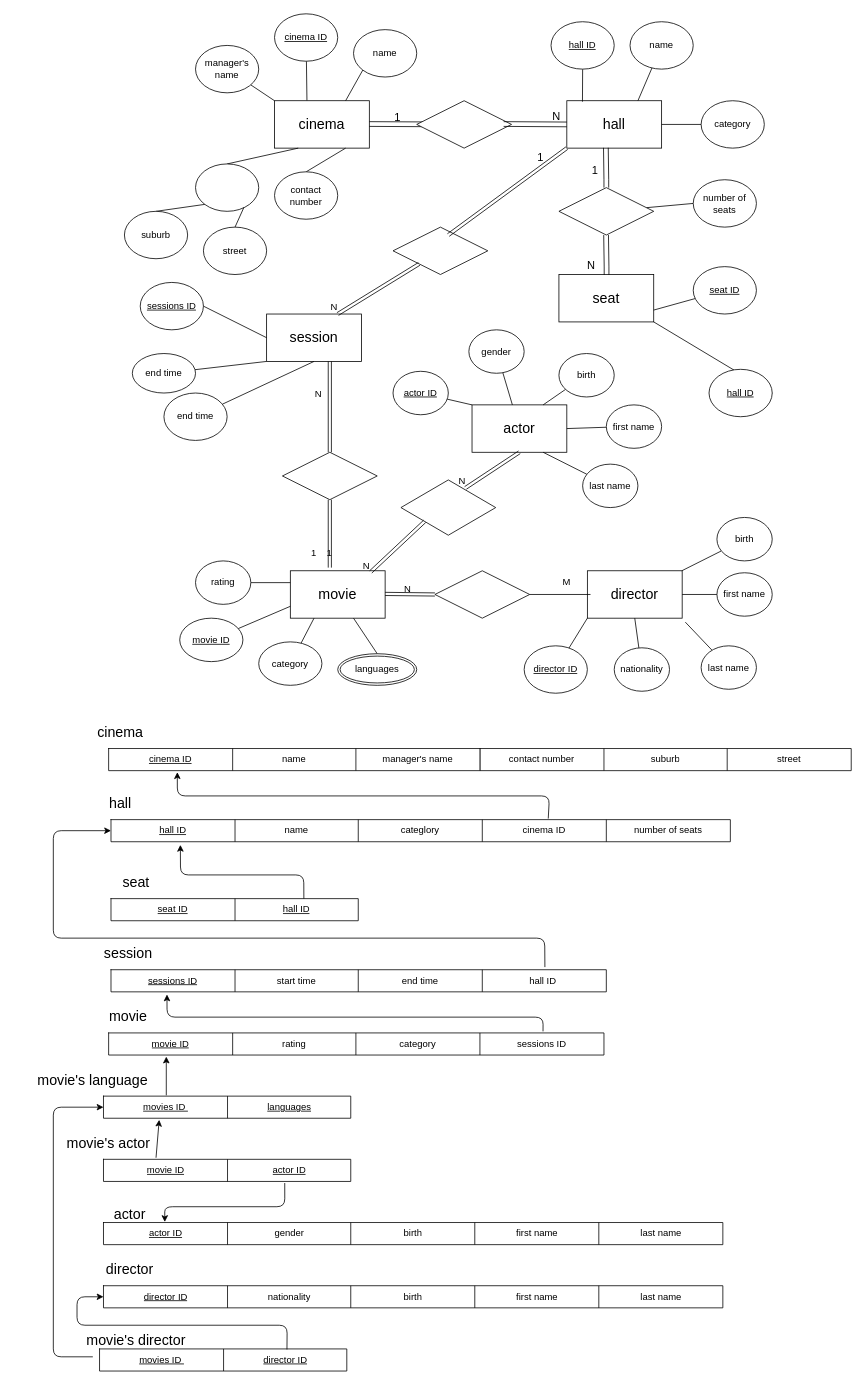
Image size: 865x1385. Some labels were removed from this diagram. The shapes that lost their labels are listed below. From the top down, each one's centre as x and y in pixels, then its label:
At point 464,124: "own".
At point 227,187: "address".
At point 606,211: "belong to".
At point 440,250: "have".
At point 329,475: "play".
At point 448,507: "act".
At point 482,594: "direct".
